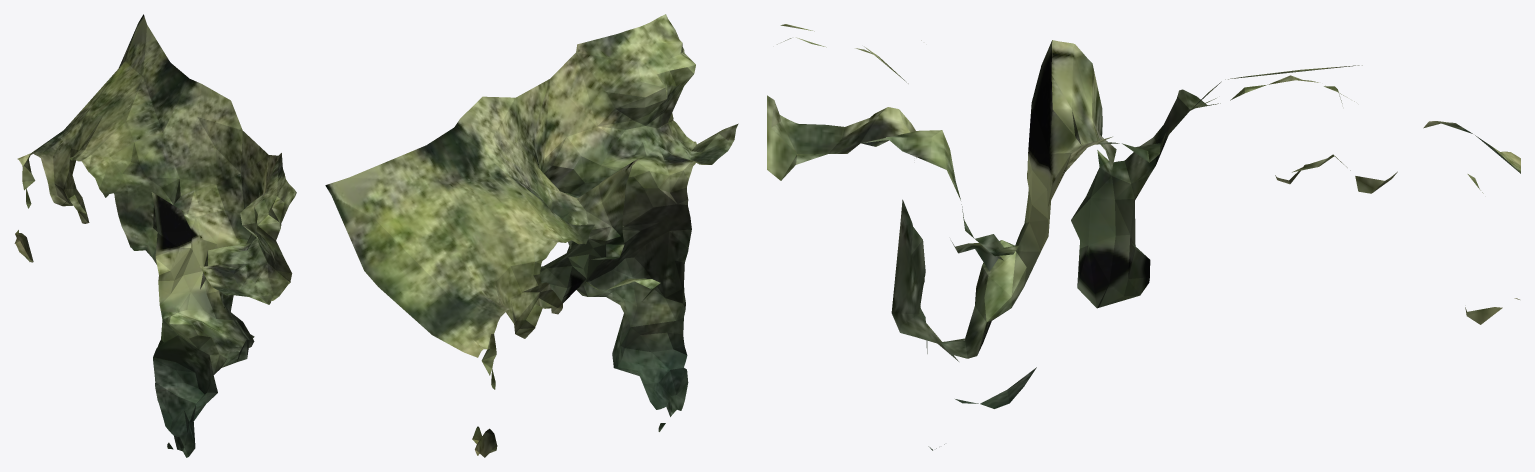
3 views of the same model, side by side, from view 1: azimuth 30°, elevation 25°; view 2: azimuth 150°, elevation 25°; view 3: azimuth 270°, elevation 25° (orthographic). The views are drawn at different scales.
Size of the model in its own units: 7.99 by 17.11 by 23.6.
2 materials, 2 textured.
